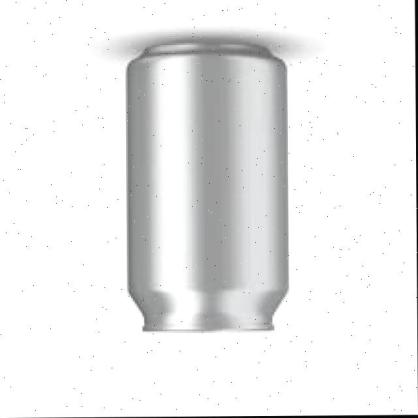can: (121, 38, 294, 336)
